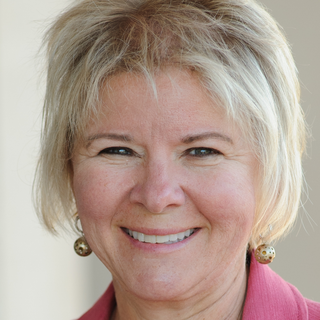eye: (92, 140, 143, 164), (177, 140, 228, 164)
